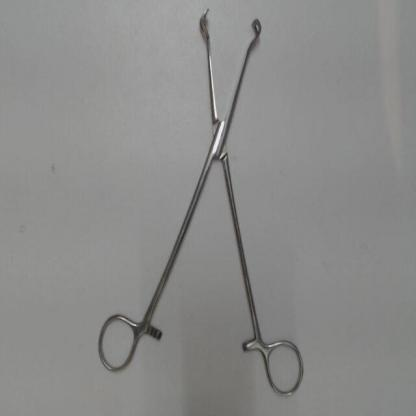8 Babcock Tissue Forceps: (91, 3, 309, 406)
